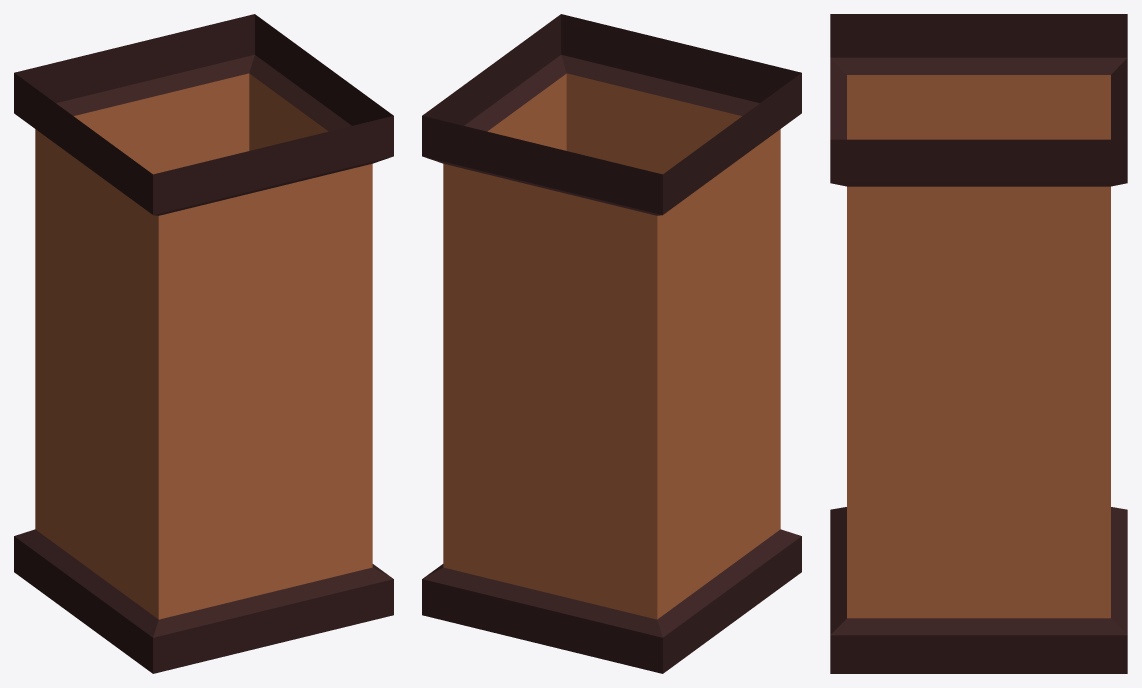
The model's file is SM_tower_rect_01.fbx.
3 renders of one model, left to right at view 1: azimuth 30°, elevation 25°; view 2: azimuth 150°, elevation 25°; view 3: azimuth 270°, elevation 25°, orthographic. The views are drawn at different scales.
Visible parts, largest first — view 1: tower_rect_01; view 2: tower_rect_01; view 3: tower_rect_01.
Part boxes in pixels (box(x1,y1,x2,y2)): tower_rect_01: box(14, 14, 393, 673); tower_rect_01: box(422, 14, 801, 673); tower_rect_01: box(830, 14, 1127, 673).
Size of the model in its own units: 227 by 451 by 227.
